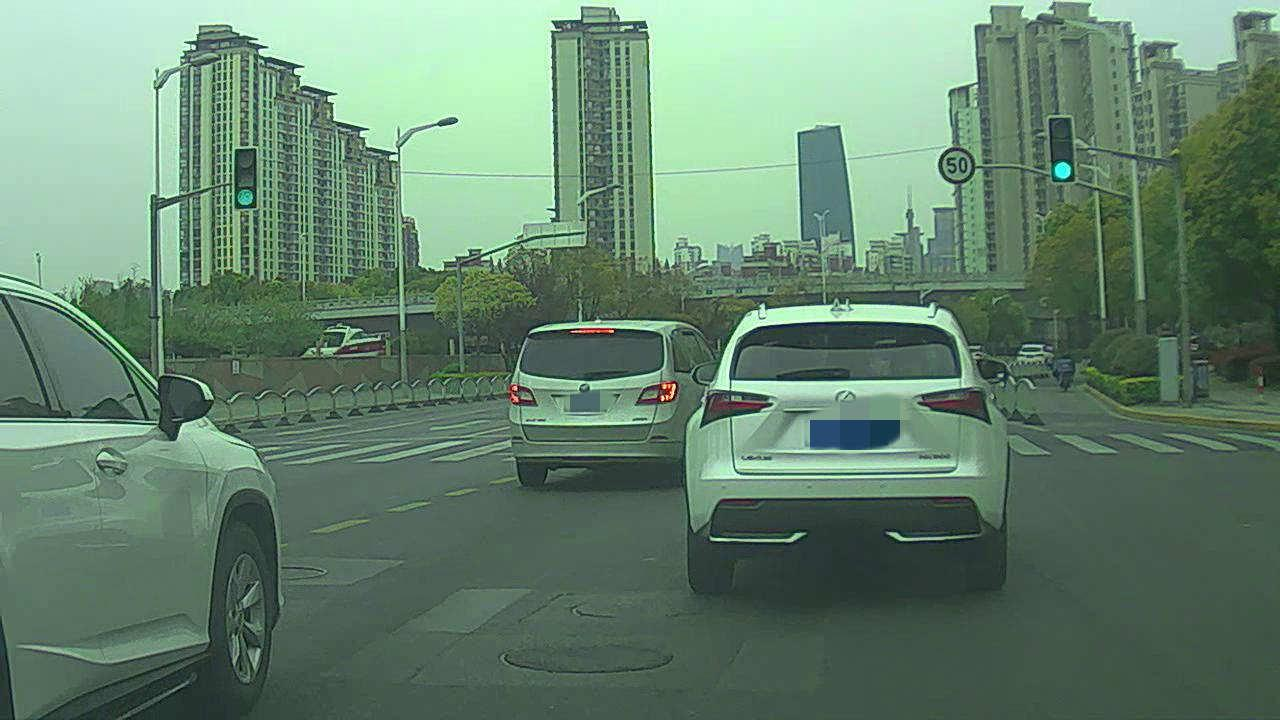traffic_light: (1047, 113, 1078, 185), (232, 148, 258, 209)
